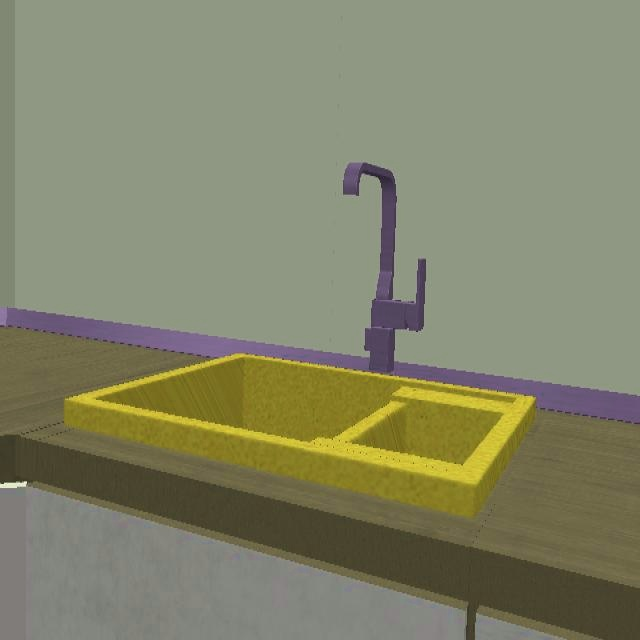countertop: (0, 327, 640, 640)
sink: (62, 353, 539, 523)
